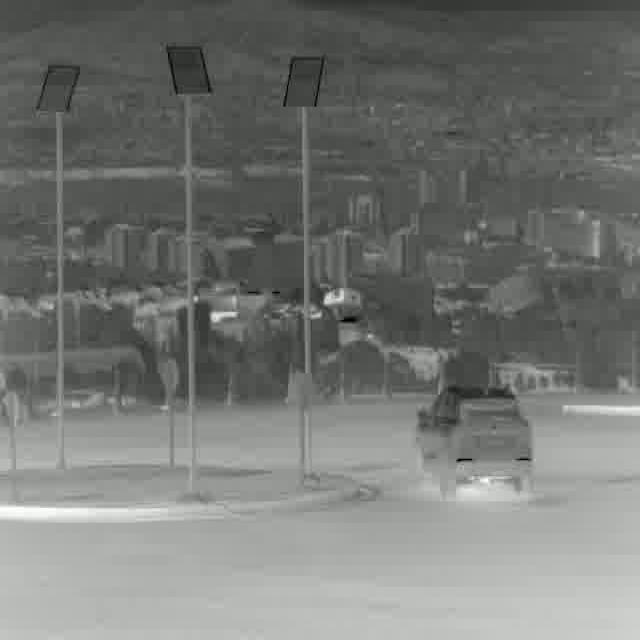Car: (414, 387, 534, 505)
